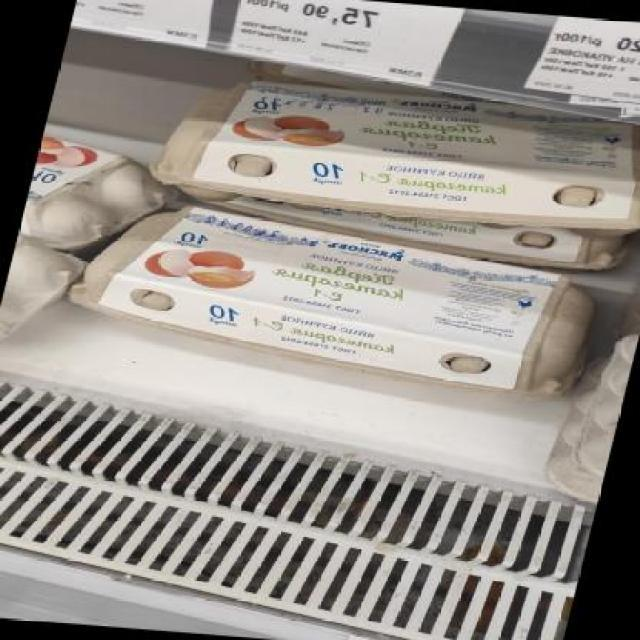egg: (57, 196, 626, 399), (142, 75, 640, 236)
